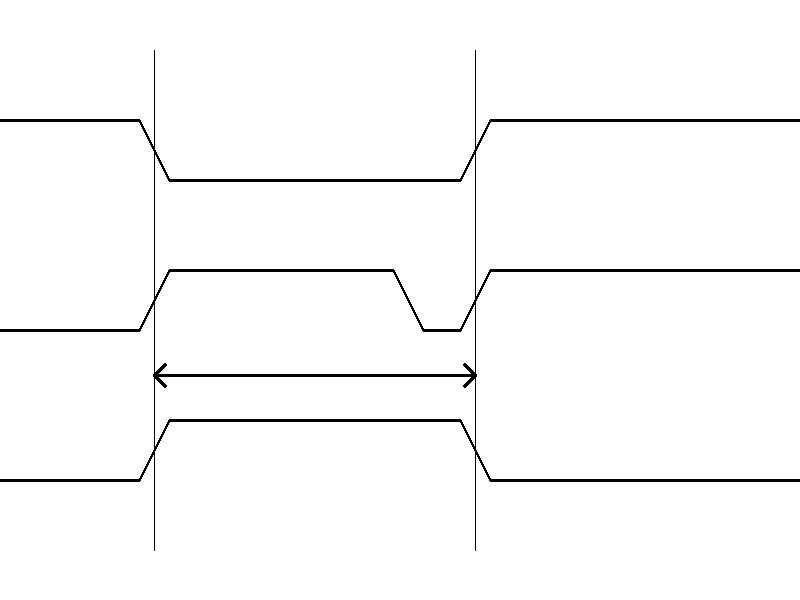double_arrow: (154, 360, 475, 390)
